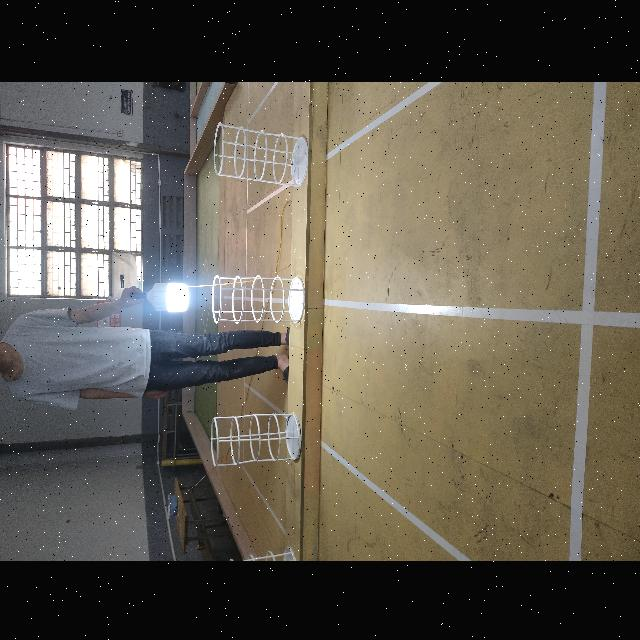S: (212, 120, 310, 188), (210, 410, 304, 466), (209, 272, 307, 324), (211, 544, 301, 560)
